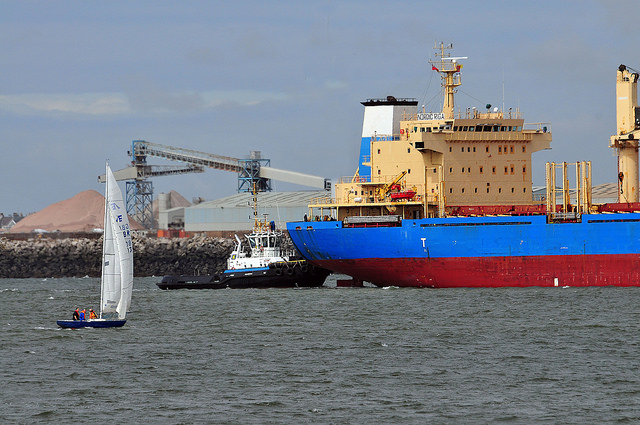boat: (61, 159, 132, 333)
bulk carrier: (281, 44, 635, 290)
tug_boat: (158, 205, 324, 297)
